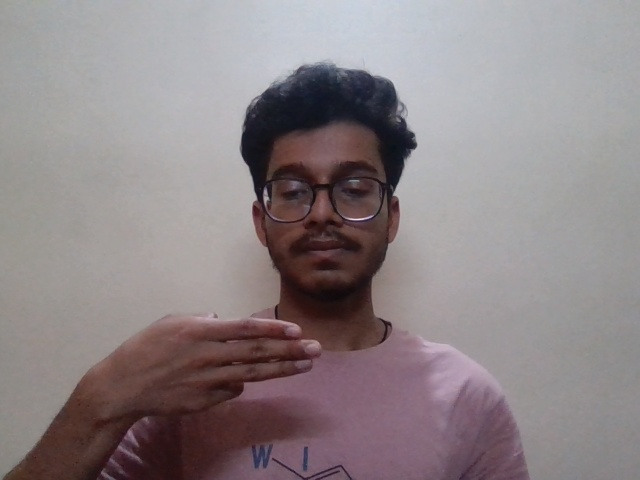wednesday: (82, 305, 341, 442)
